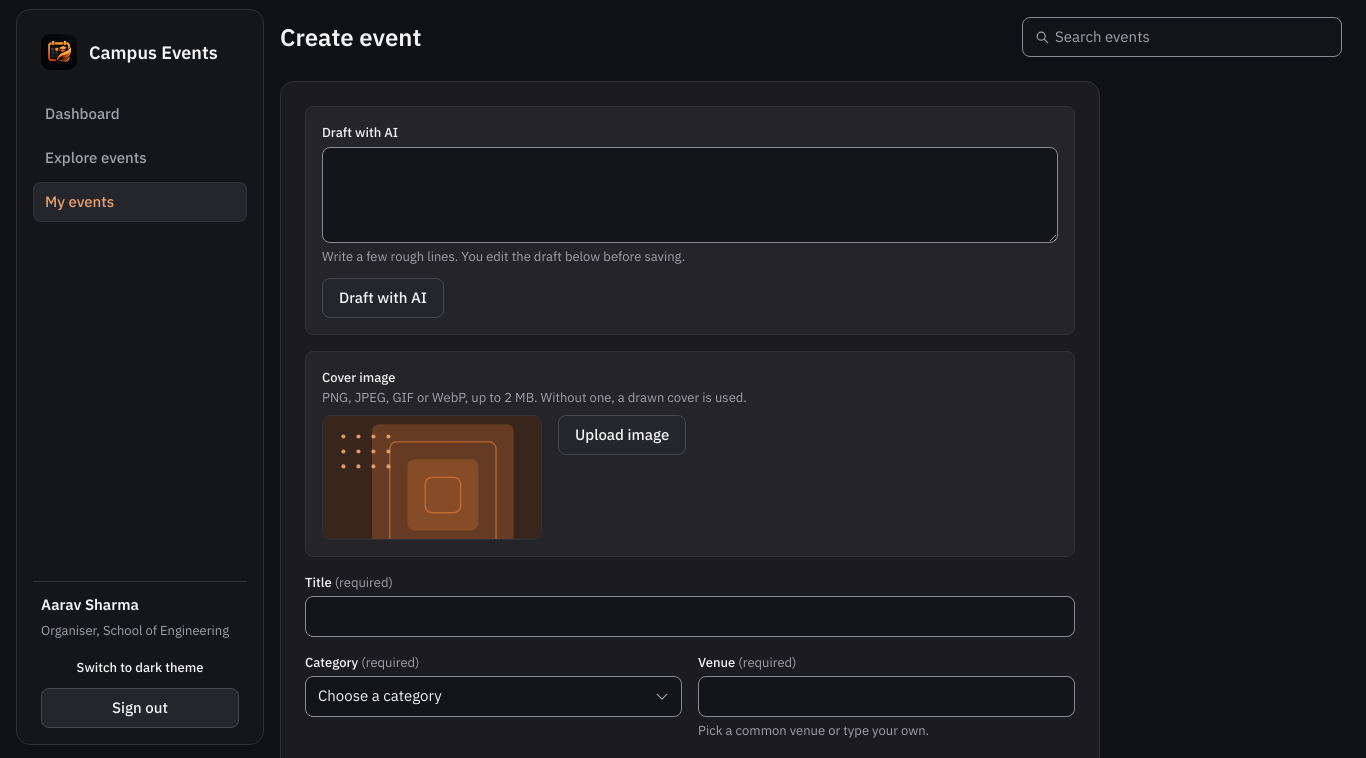
create event › says so when AI is unavailable and the notes become the description
The width and height of the screenshot is (1366, 758).
Step 1. Type "drone session" into the text box labelled "Draft with AI" → x=690, y=194, box [322, 146, 1058, 242]
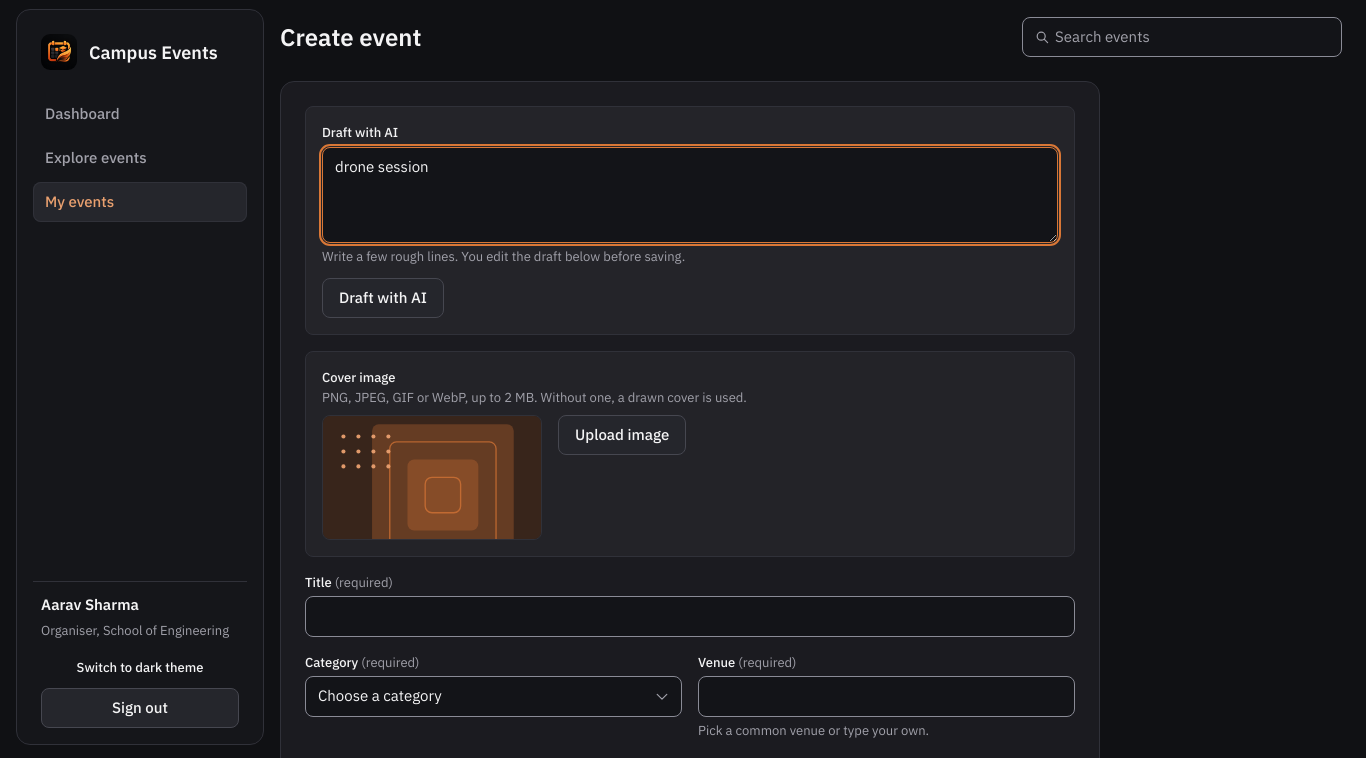
Step 2. Click the button "Draft with AI" → x=383, y=298, box [322, 278, 444, 318]
(page scrolled)
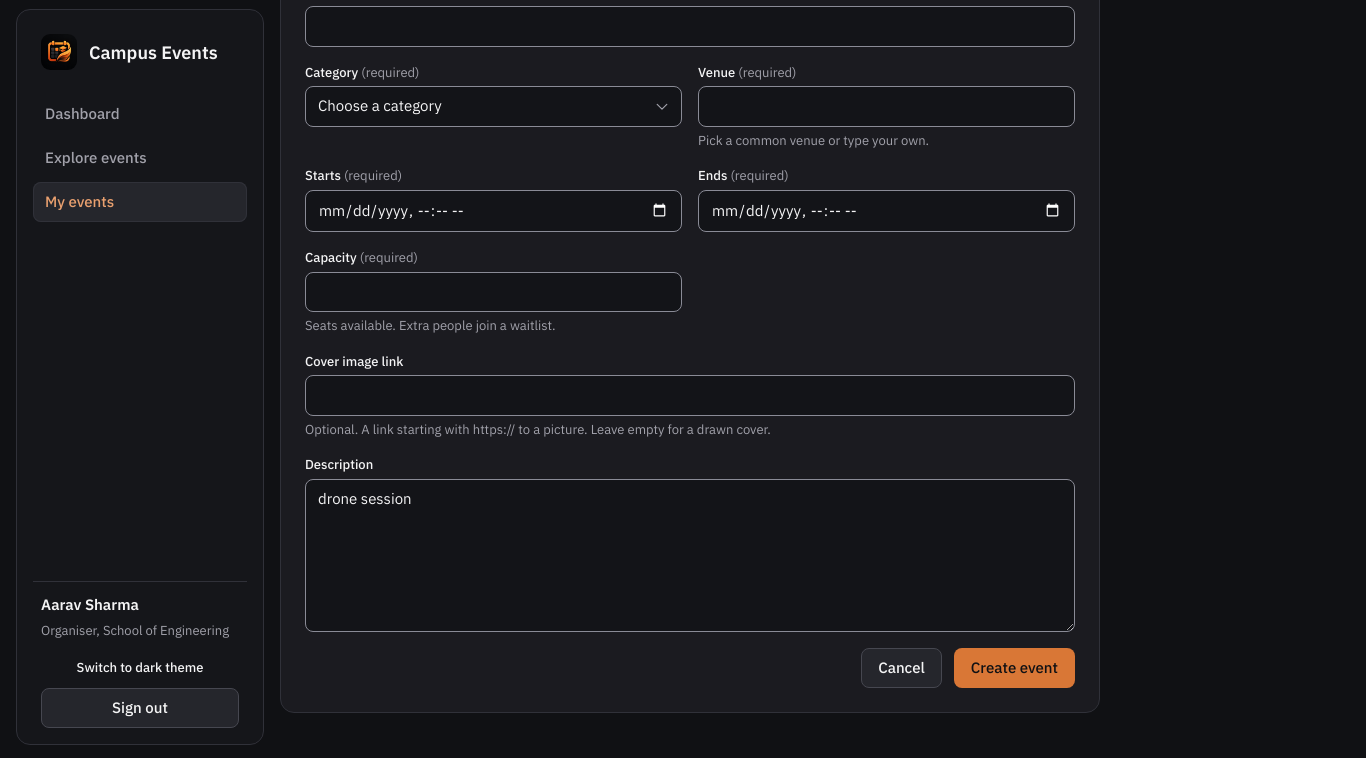
Check: the field labelled "Title (required)" is empty, box [305, 6, 1075, 47]
Check: the text box labelled "Description" holds "drone session", box [305, 479, 1075, 632]
